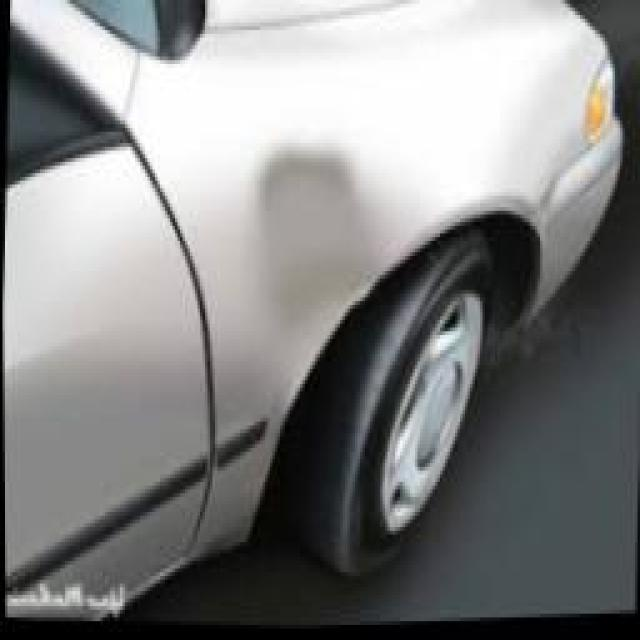Fender: (228, 125, 401, 374)
